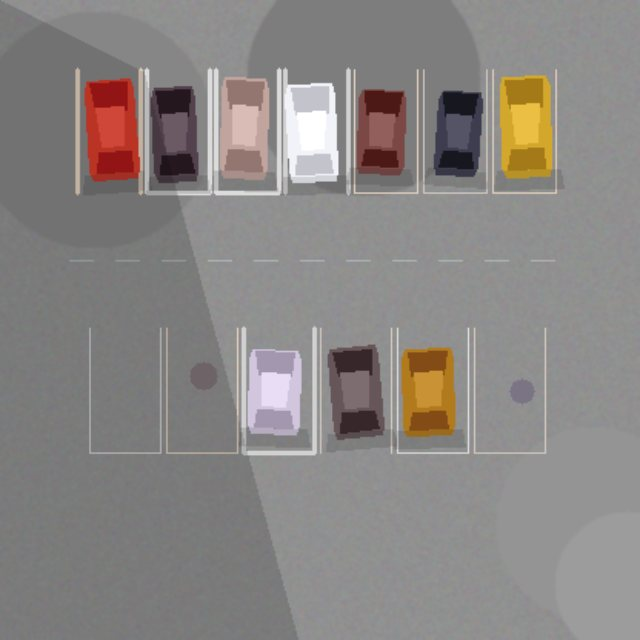space-empty: (89, 328, 160, 452), (166, 328, 237, 452), (474, 328, 545, 452)
space-occupied: (243, 328, 314, 452), (320, 328, 391, 452), (397, 328, 468, 452), (77, 69, 140, 192), (146, 69, 209, 192), (215, 69, 278, 192), (285, 69, 348, 192), (354, 69, 417, 192), (423, 69, 486, 192), (492, 69, 555, 192)
